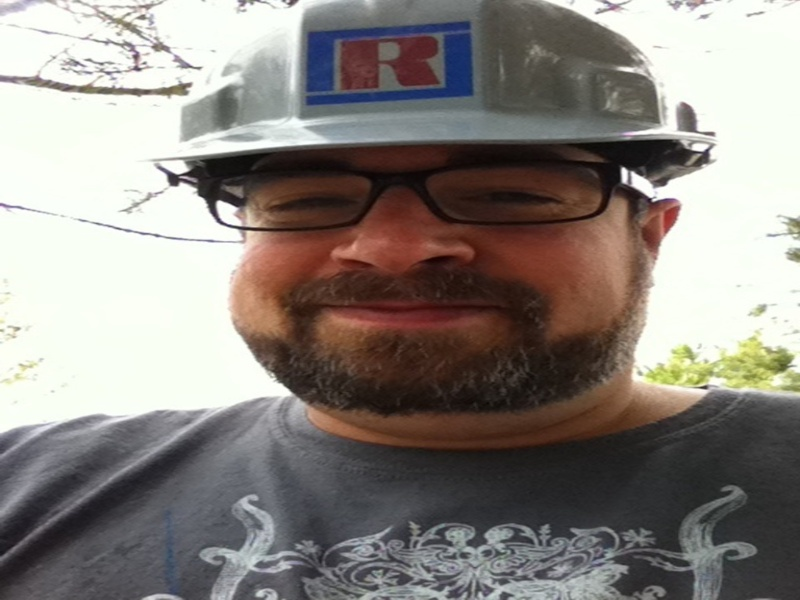Baret: (180, 1, 700, 171)
